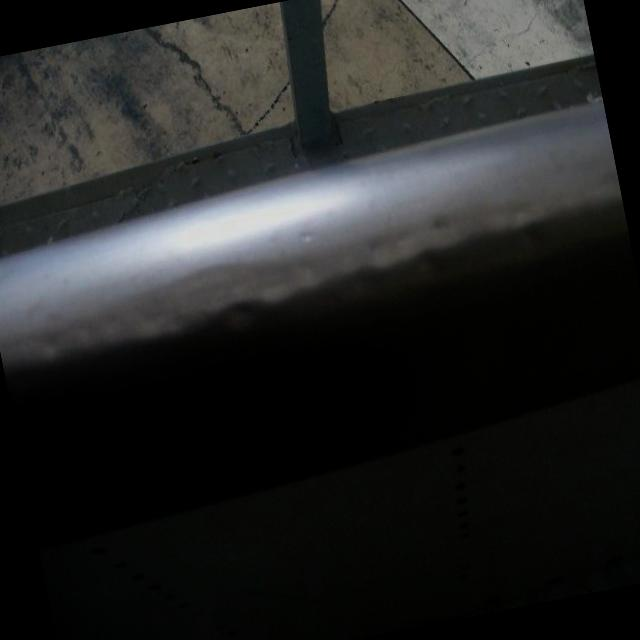dent: (126, 250, 304, 338), (336, 234, 456, 311), (23, 304, 121, 372), (498, 194, 557, 263), (219, 282, 274, 338)
